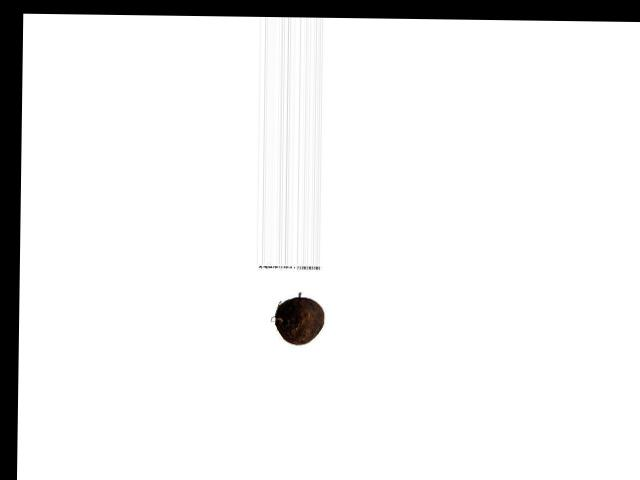beet: (276, 297, 325, 344)
